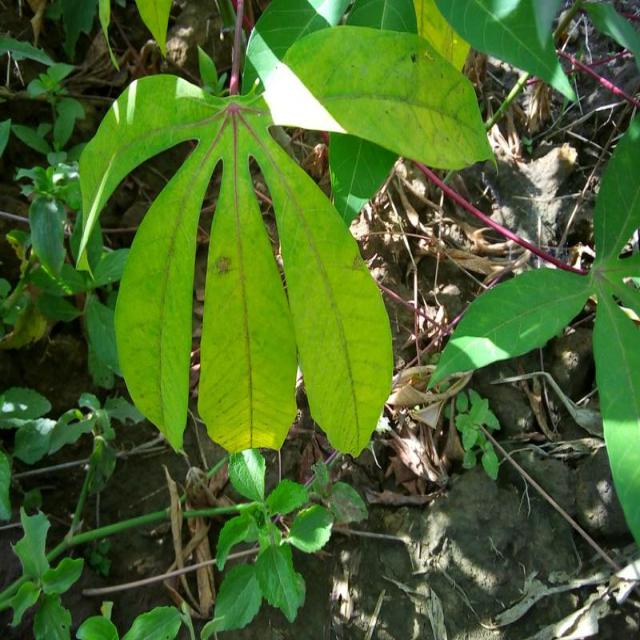cassava leaf: (74, 70, 394, 459), (426, 109, 639, 548), (280, 23, 498, 173)
